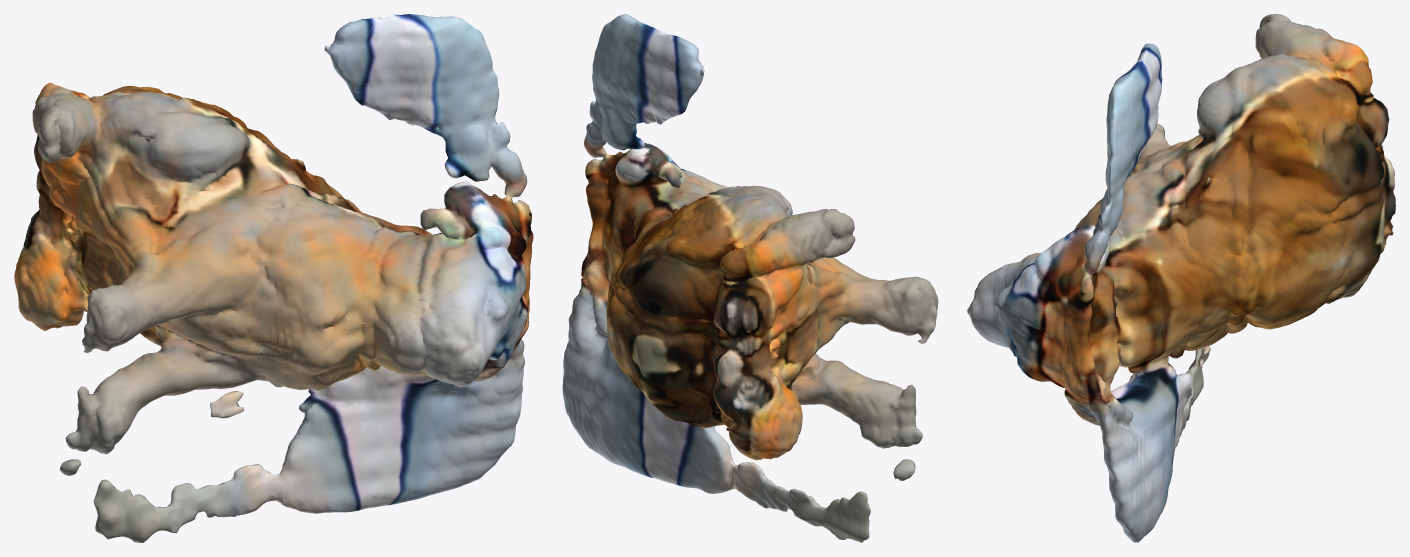
3 renders of one model, left to right at view 1: azimuth 30°, elevation 25°; view 2: azimuth 150°, elevation 25°; view 3: azimuth 270°, elevation 25°, orthographic. The views are drawn at different scales.
Bounding box in the file's own units: 0.7967 × 0.8784 × 0.7471.
1 material, 1 textured.
